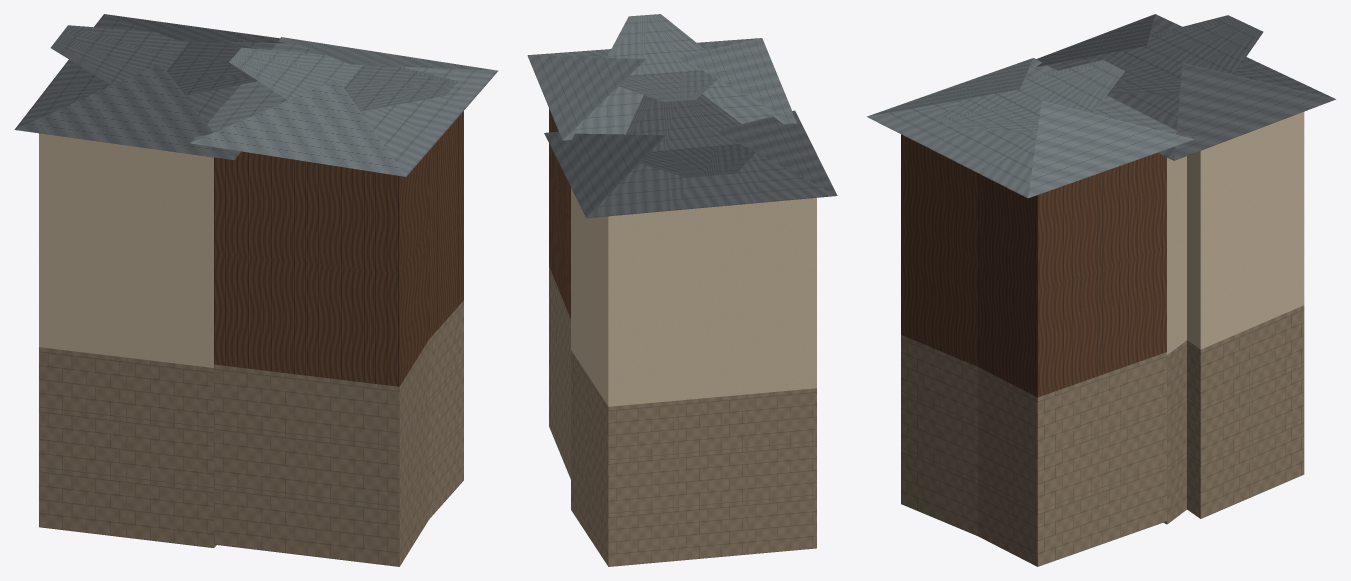
File: bld_c-20_18_521.gltf
3 renders of one model, left to right at view 1: azimuth 30°, elevation 25°; view 2: azimuth 150°, elevation 25°; view 3: azimuth 270°, elevation 25°, orthographic. The views are drawn at different scales.
Parts seen in each view (by area): view 1: bld_c-20_18_521; view 2: bld_c-20_18_521; view 3: bld_c-20_18_521.
Boxes of the visible parts, bbox=[...] form: bld_c-20_18_521: bbox=[14, 14, 498, 566]; bld_c-20_18_521: bbox=[527, 14, 837, 566]; bld_c-20_18_521: bbox=[867, 14, 1335, 566].
Bounding box in the file's own units: 12.34 × 12.6 × 12.83.
Materials: 5 (5 with a texture image).
